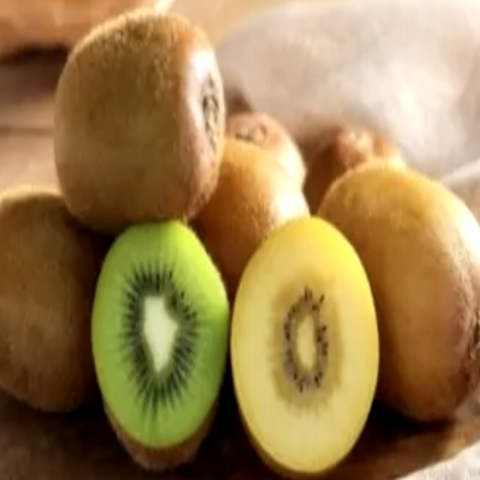kiwi: (304, 119, 479, 462), (40, 2, 239, 226)
